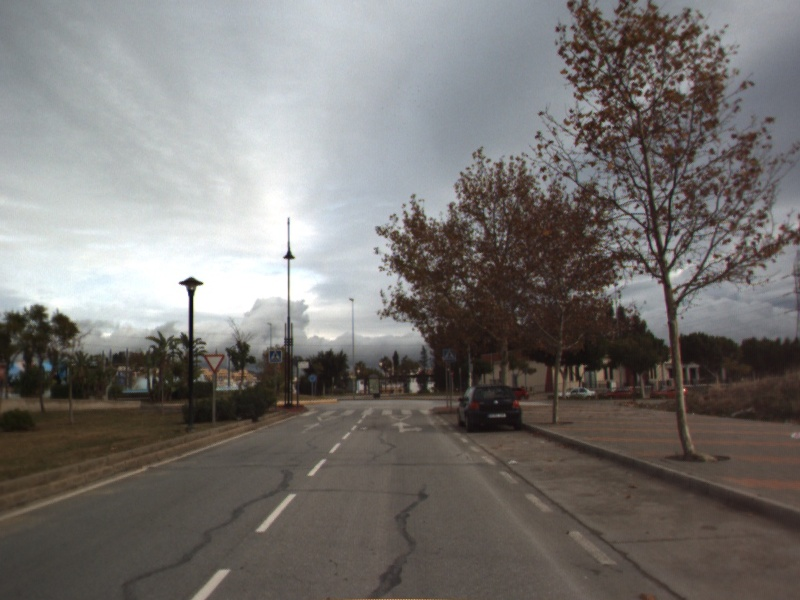STRAIGHT: (298, 421, 325, 435)
STRAIGHT_RIGHT: (390, 419, 424, 434)
